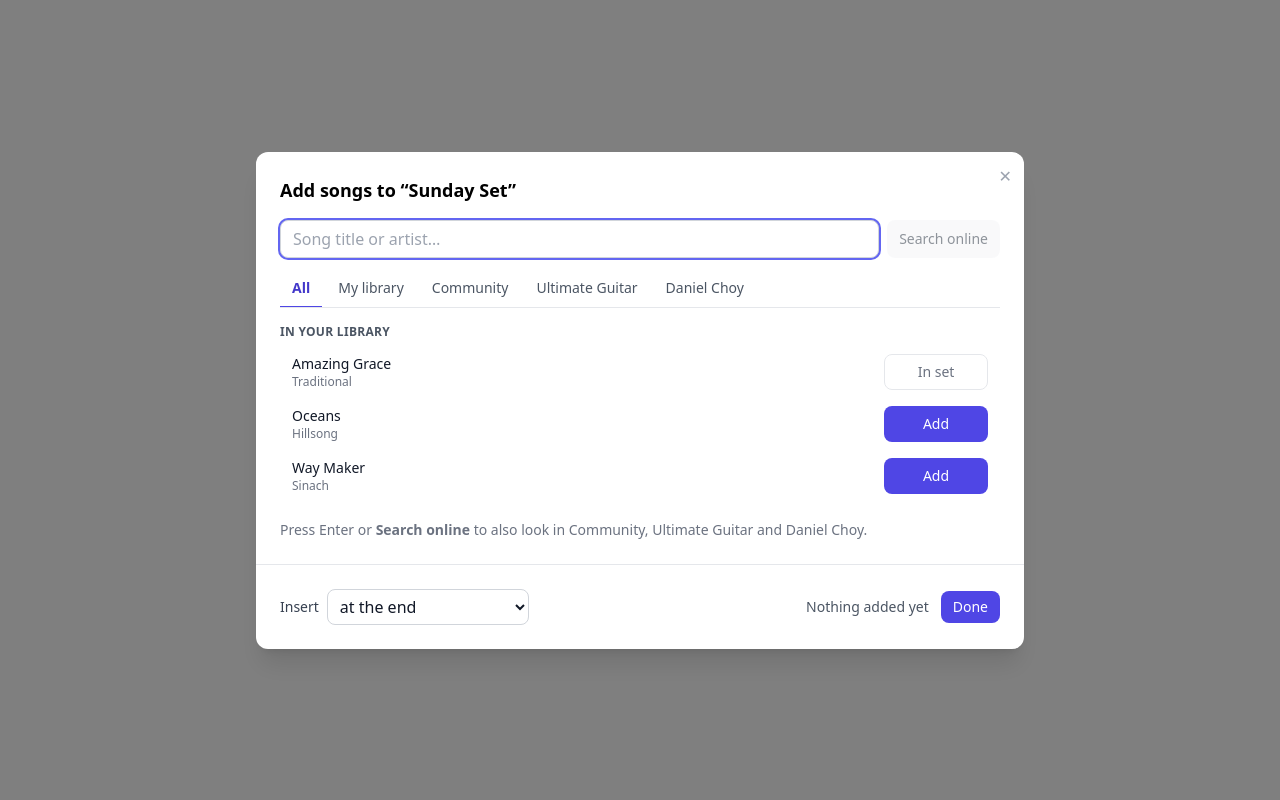
Test: AddSongsModal: online › filters sections with the source tabs
This screenshot has width=1280, height=800.
Type "o" into the field named "search" at (580, 238), box [280, 220, 879, 258]
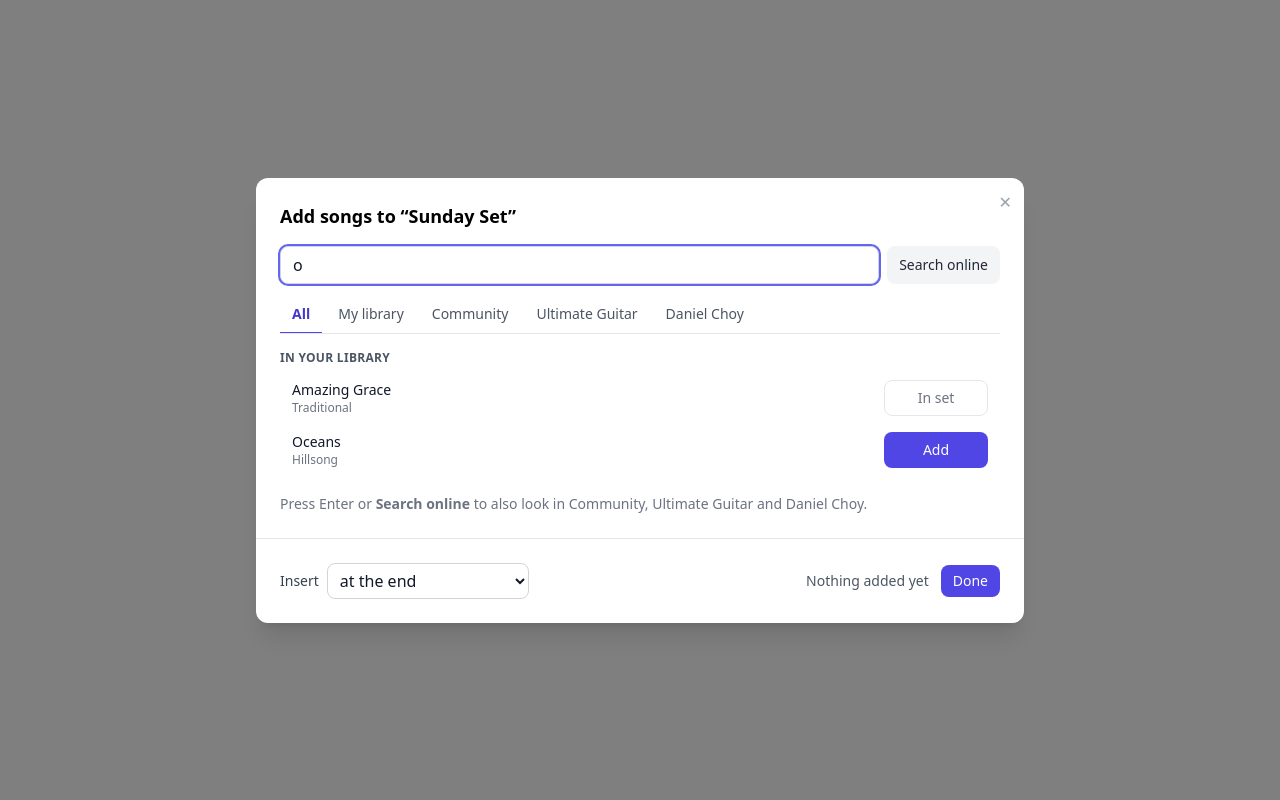
Click the button "Search online" at (944, 264), box [887, 246, 1000, 284]
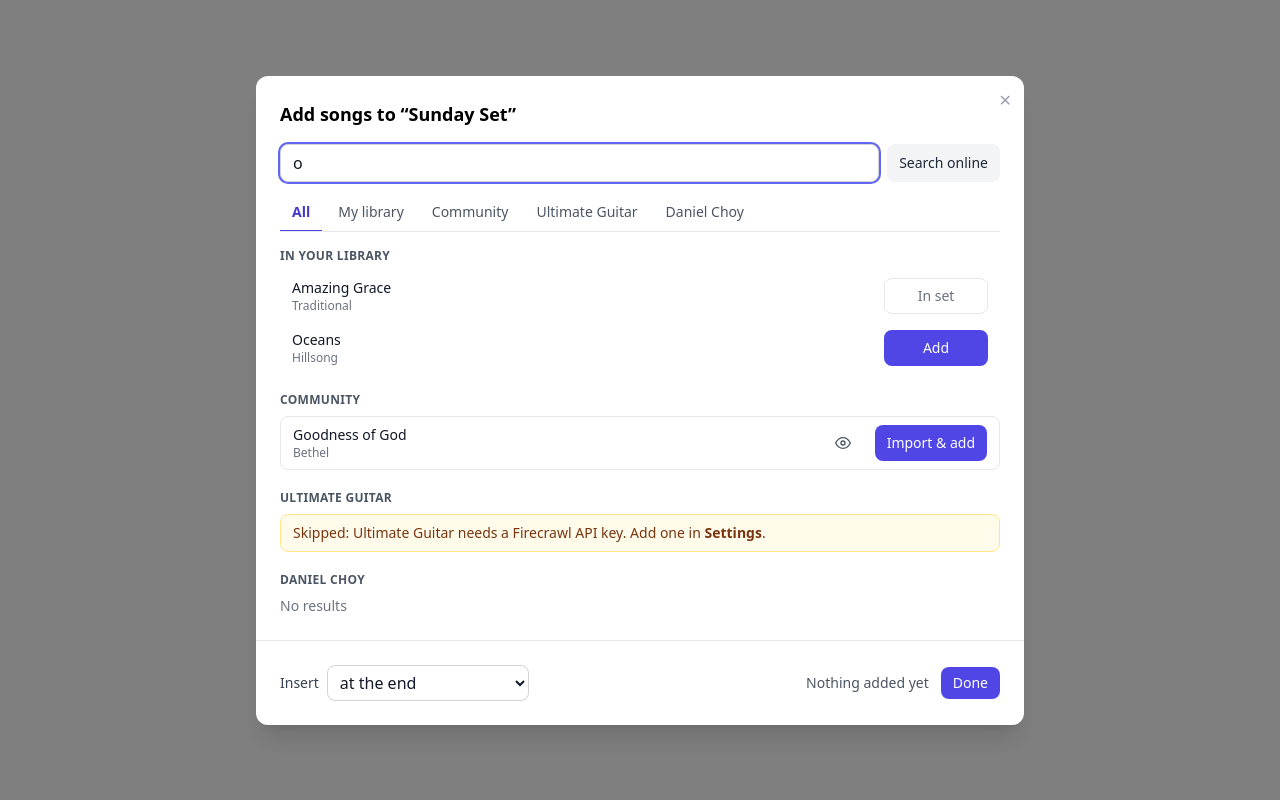
expect the heading "Community" is shown: met, box [280, 390, 360, 408]
Click the tab "Community" at (470, 212), box [420, 194, 520, 232]
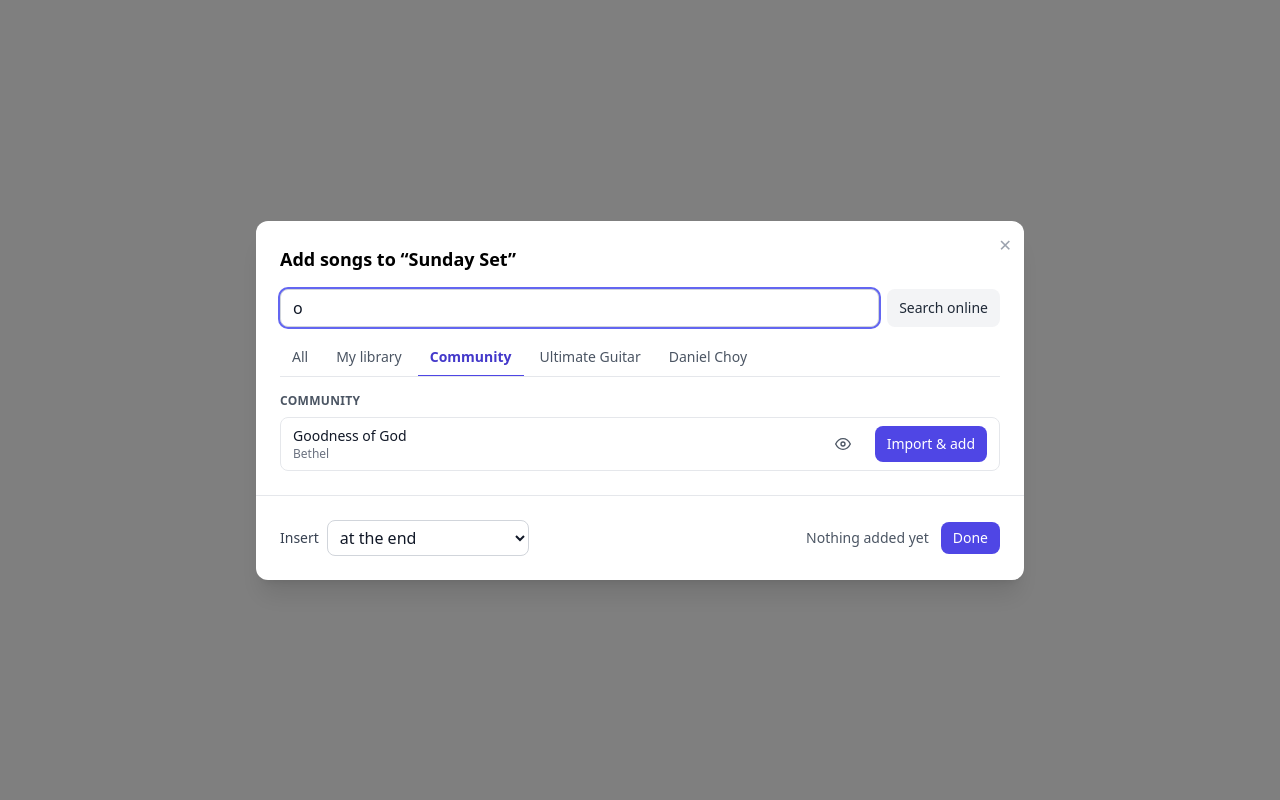
expect the heading "Community" is shown: met, box [280, 392, 360, 408]
expect the heading "In your library" is gone: met
